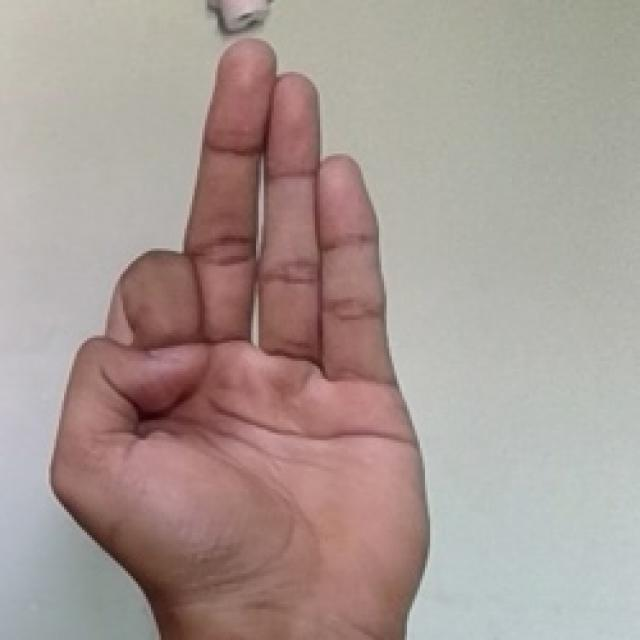Numeric-9: (47, 36, 429, 611)
